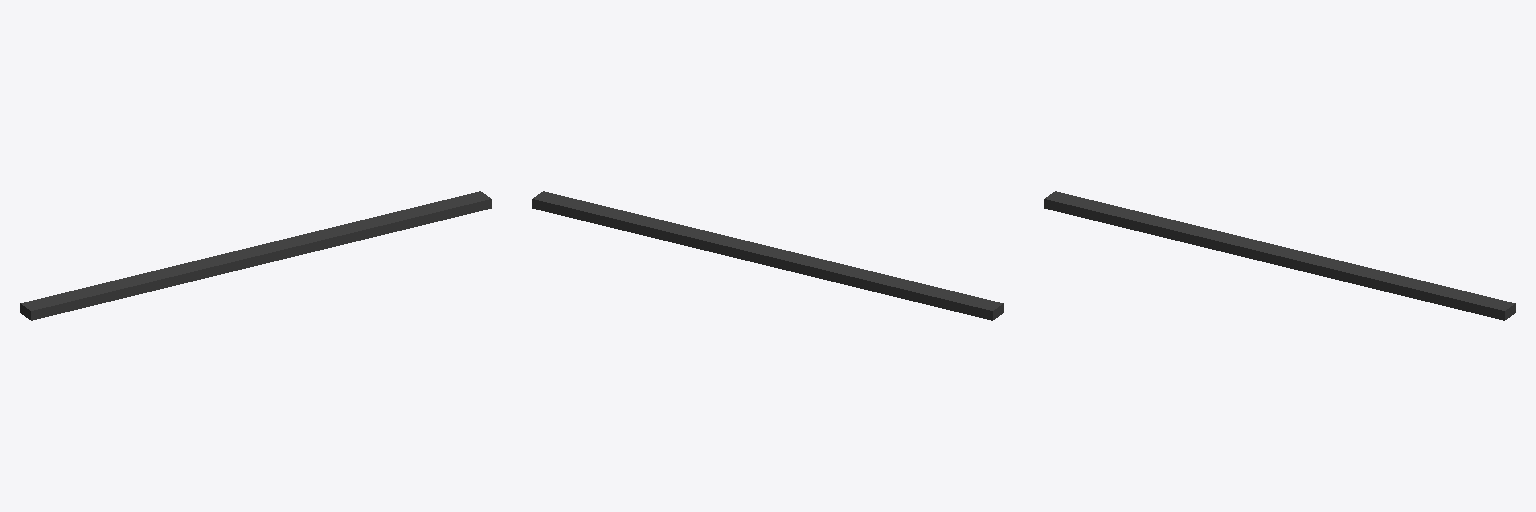
robot.urdf — object:
<?xml version="1.0" ?>
<robot name="object" xmlns:xacro="http://ros.org/wiki/xacro">
  <!-- Init colour -->
  <material name="black">
    <color rgba="0.0 0.0 0.0 1.0"/>
  </material>
  <material name="dark">
    <color rgba="0.3 0.3 0.3 1.0"/>
  </material>
  <material name="light_black">
    <color rgba="0.4 0.4 0.4 1.0"/>
  </material>
  <material name="blue">
    <color rgba="0.0 0.0 0.8 1.0"/>
  </material>
  <material name="green">
    <color rgba="0.0 0.8 0.0 1.0"/>
  </material>
  <material name="grey">
    <color rgba="0.5 0.5 0.5 1.0"/>
  </material>
  <material name="orange">
    <color rgba="1.0 0.423529411765 0.0392156862745 1.0"/>
  </material>
  <material name="brown">
    <color rgba="0.870588235294 0.811764705882 0.764705882353 1.0"/>
  </material>
  <material name="red">
    <color rgba="0.8 0.0 0.0 1.0"/>
  </material>
  <material name="white">
    <color rgba="1.0 1.0 1.0 1.0"/>
  </material>

  <link name="border">
    <visual>
      <origin rpy="0 0 0" xyz="0.0 0 0.0"/>
      <geometry>
        <box size="5.0 0.2 0.1" />
      </geometry>
      <material name="dark"/>
    </visual>

    <collision>
      <origin rpy="0 0 0" xyz="0 0 0"/>
      <geometry>
    	<box size="5.0 0.2 0.1" />
      </geometry>
    </collision>

    <inertial>
      <origin rpy="0 0 0" xyz="0.0 0 0"/>
      <mass value="1.3729096e-09"/>
      <!-- <mass value="1.3729096e+00"/> -->
      <inertia ixx="1.1175580e-05" ixy="-4.2369783e-11" ixz="-5.9381719e-09" iyy="1.1192413e-05" iyz="-1.4400107e-11" izz="2.0712558e-05"/>
    </inertial>
  </link>
  </robot>

--- Render facts (derived) ---
The picture shows the robot from 3 angles, left to right: view 1: azimuth 30°, elevation 25°; view 2: azimuth 150°, elevation 25°; view 3: azimuth 330°, elevation 25°; orthographic projection.
Robot: object — 1 links, 0 joints (none); root link border; default pose: all joints at 0.
Visible links, largest first — view 1: border; view 2: border; view 3: border.
Link boxes in pixels (x1,y1,x2,y2): border: (20,191,491,320); border: (532,191,1003,320); border: (1044,191,1515,320).
Size in the robot's own frame: 5 by 0.2 by 0.1 metres.
Geometry: primitives only (box / cylinder / sphere), no mesh files.
